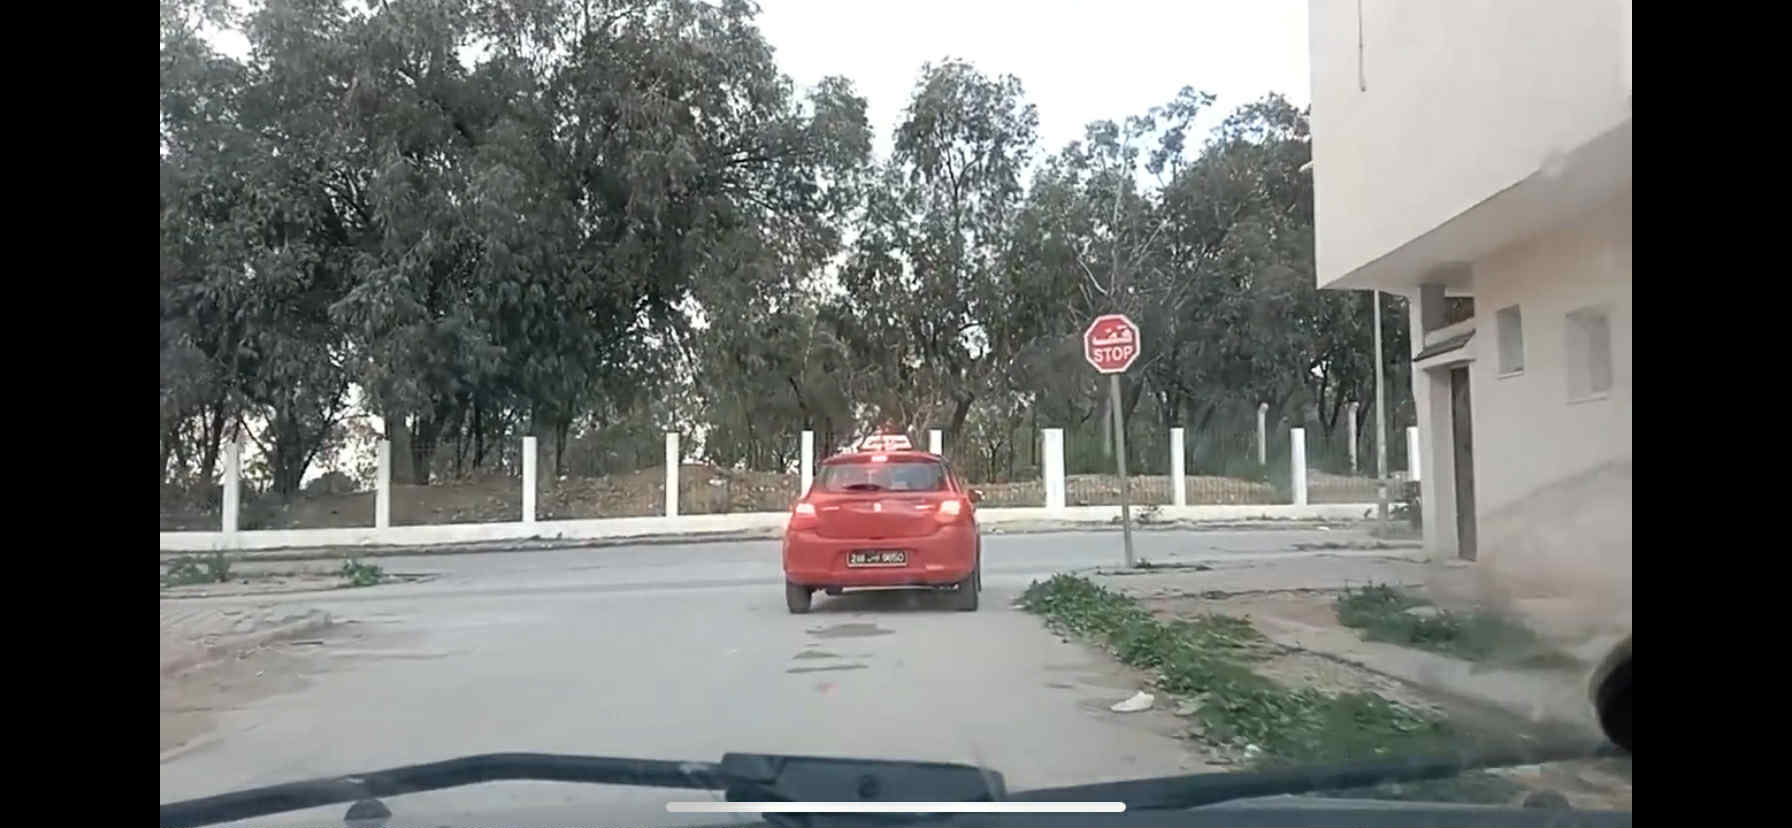Stop: (1083, 313, 1141, 373)
